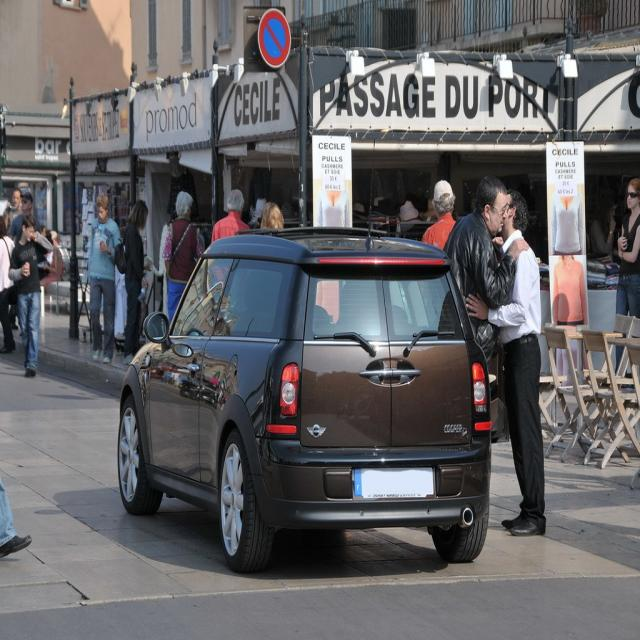car: (117, 220, 504, 572)
